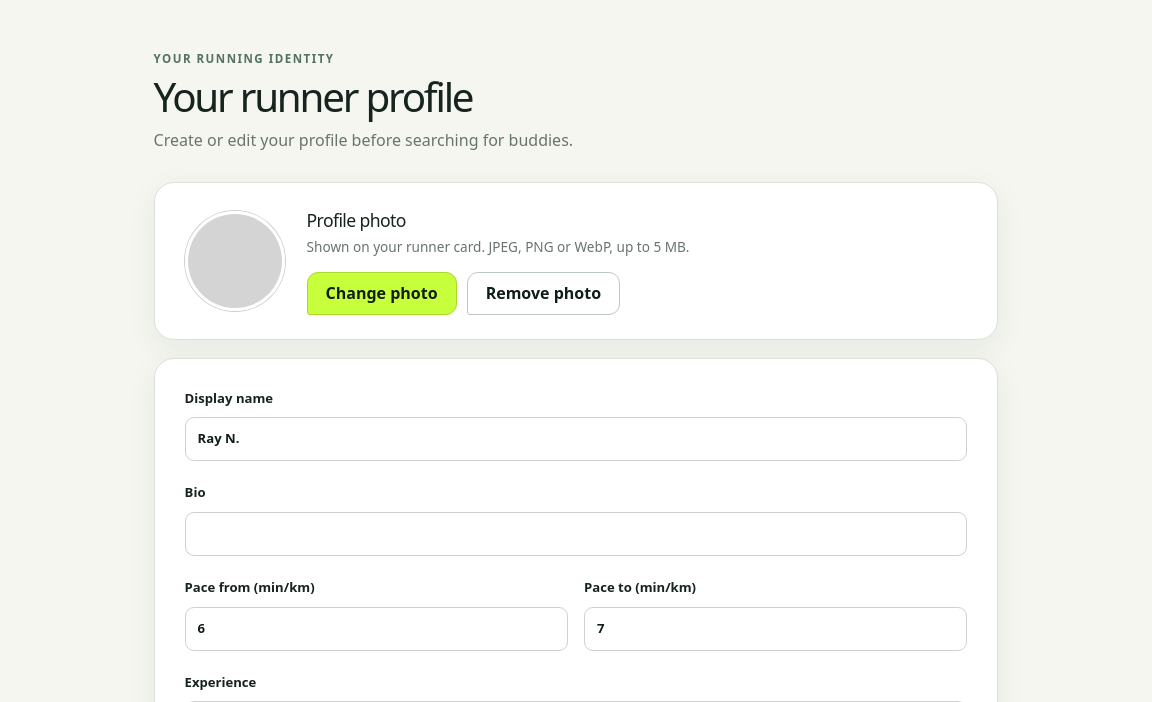
Scenario: delivery 4 user flows › removes the current profile photo
The image size is (1152, 702).
Click the button "Remove photo" at (543, 293), box [467,272,620,315]
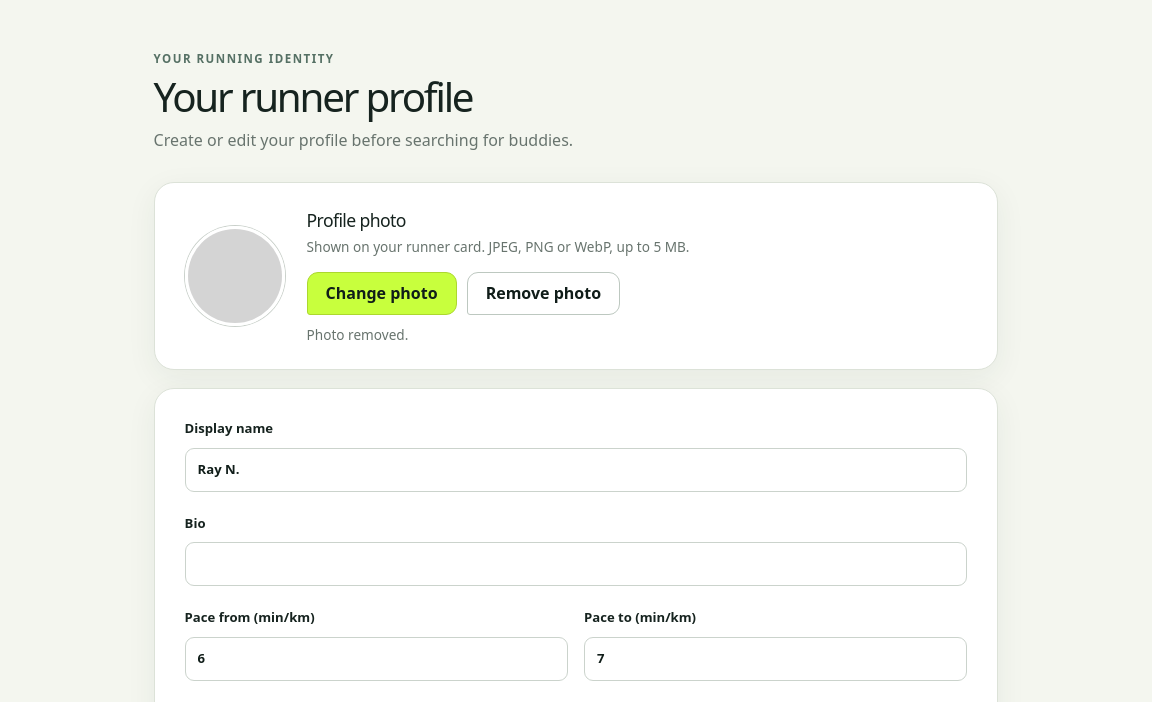
Expected: the text "Photo removed." is shown, [307,325,408,344]
